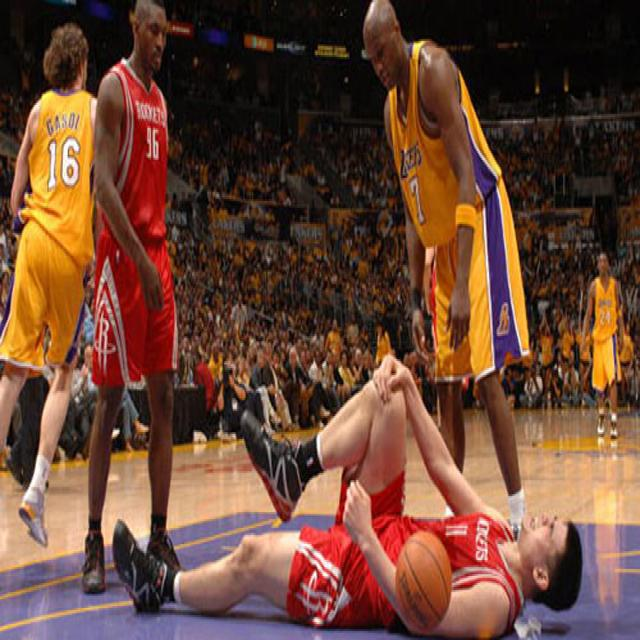10-: (0, 0, 638, 631)
down: (112, 345, 594, 620)
